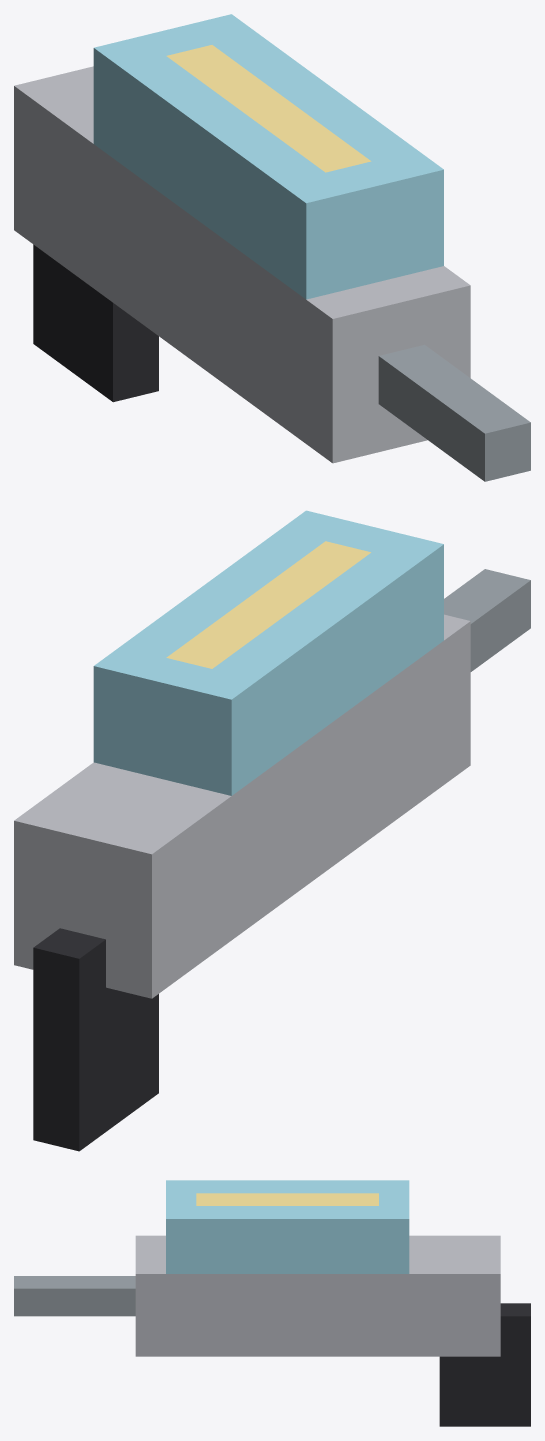
File: vox_injector_star.glb
The picture shows the model from 3 angles, top to bottom: view 1: azimuth 30°, elevation 25°; view 2: azimuth 150°, elevation 25°; view 3: azimuth 270°, elevation 25°; orthographic projection. The views are drawn at different scales.
Visible parts, largest first — view 1: vox_injector_star; view 2: vox_injector_star; view 3: vox_injector_star.
Part boxes in pixels (<box>): vox_injector_star: <box>14,14,530,481</box>; vox_injector_star: <box>14,510,530,1151</box>; vox_injector_star: <box>14,1180,530,1426</box>.
Bounding box in the file's own units: 0.06 × 0.16 × 0.34.
